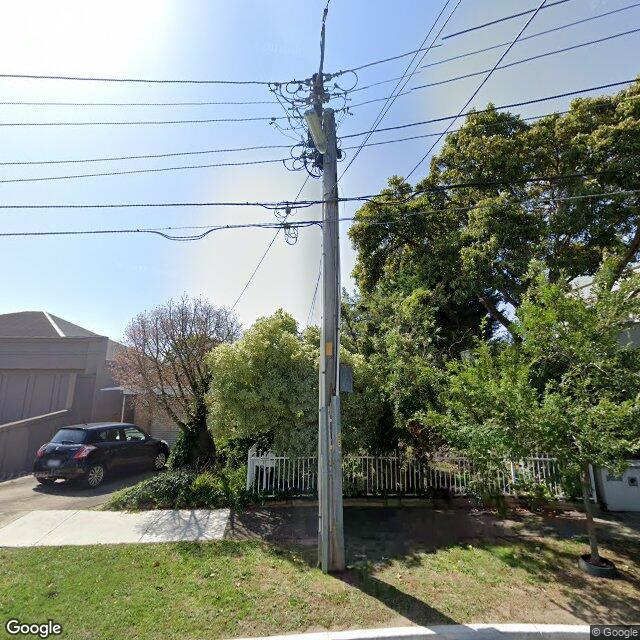crossarm: (267, 69, 358, 179)
streetlight: (304, 110, 332, 160)
timber-pole: (318, 109, 346, 575)
